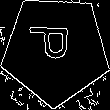P_E: (30, 30, 81, 69)
